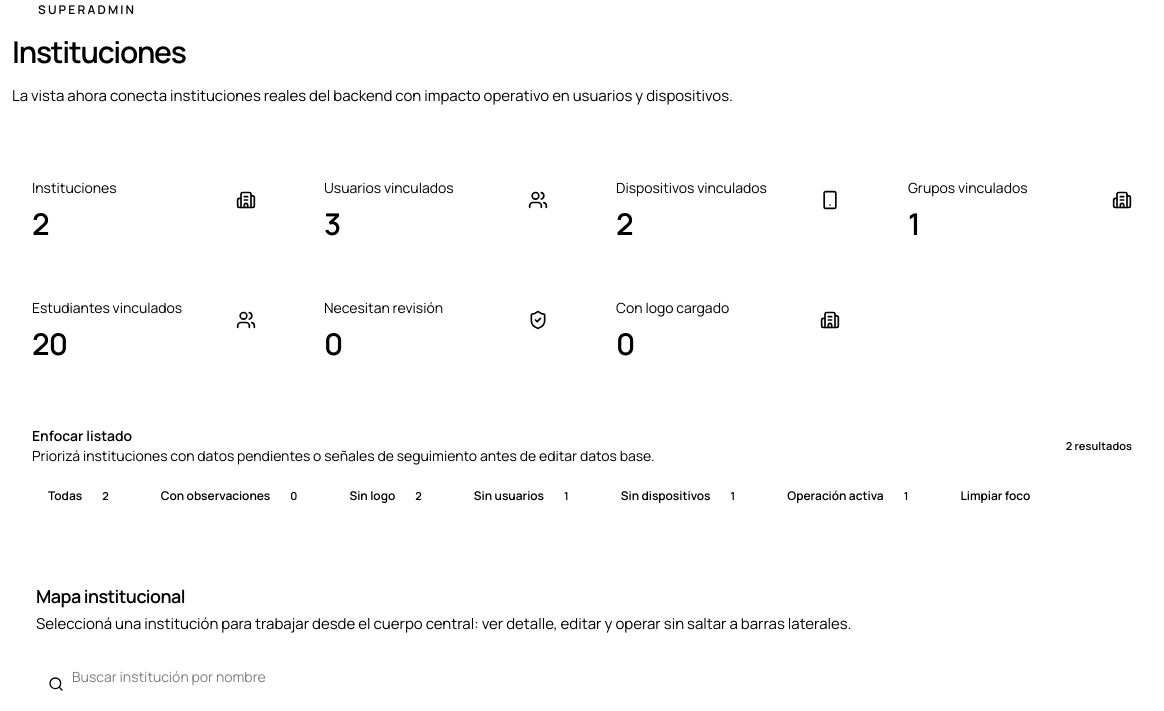
InstitutionsOverview › permite buscar instituciones por nombre
Type "sur" into the field with placeholder "Buscar institución por nombre" at (588, 676), box [36,654,1140,698]
(page scrolled)
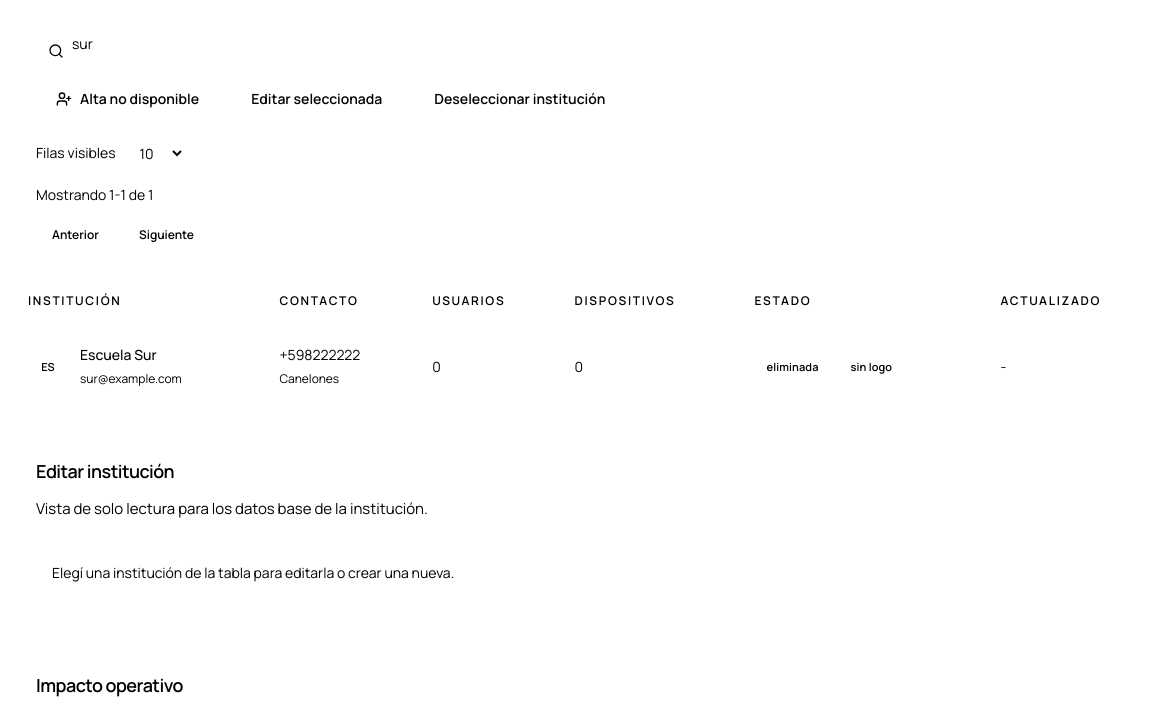
Check: the text "Escuela Sur" is shown, box [80,345,157,364]
Check: the text "Colegio Norte" is not shown
